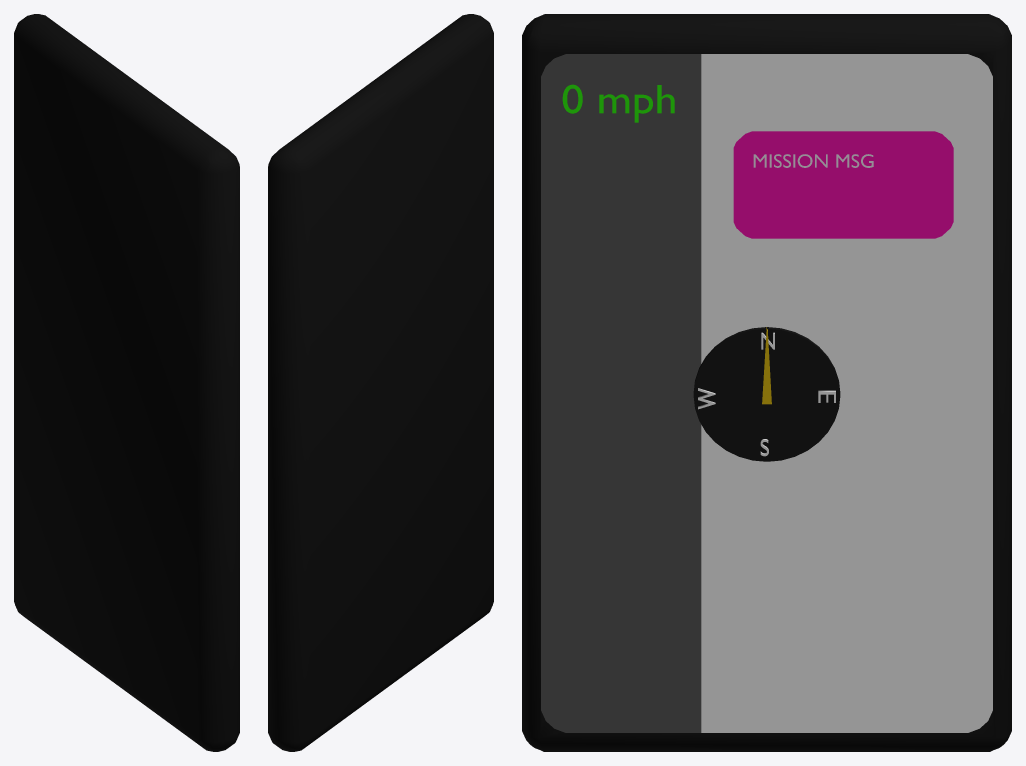
Rendered from hudPhone_roundedfixed.fbx.
The picture shows the model from 3 angles, left to right: view 1: azimuth 30°, elevation 25°; view 2: azimuth 150°, elevation 25°; view 3: azimuth 270°, elevation 25°; orthographic projection. The views are drawn at different scales.
Parts seen in each view (by area): view 1: phone; view 2: phone; view 3: phone, msgbox, compass, mph.
Part boxes in pixels (<box>): phone: <box>14,14,239,751</box>; phone: <box>268,14,493,751</box>; phone: <box>522,14,1011,751</box>; msgbox: <box>733,131,953,238</box>; compass: <box>693,327,840,461</box>; mph: <box>562,84,674,122</box>.
Size of the model in its own units: 44.7 by 551 by 333.
